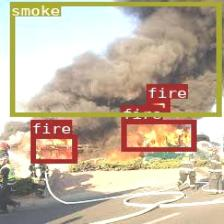fire: (120, 119, 196, 150), (30, 134, 76, 162), (145, 98, 169, 110)
smoke: (9, 2, 220, 116)
